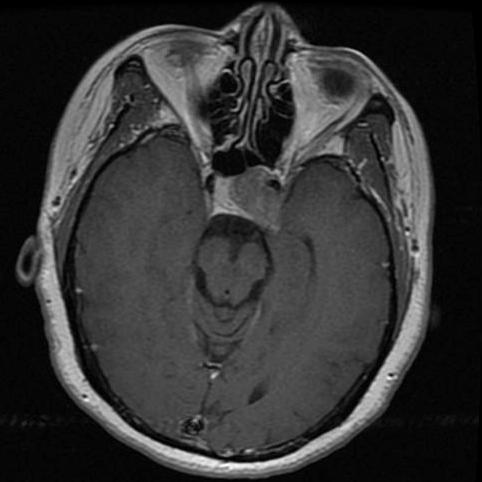Tumour-Pituitary: (195, 170, 287, 235)
